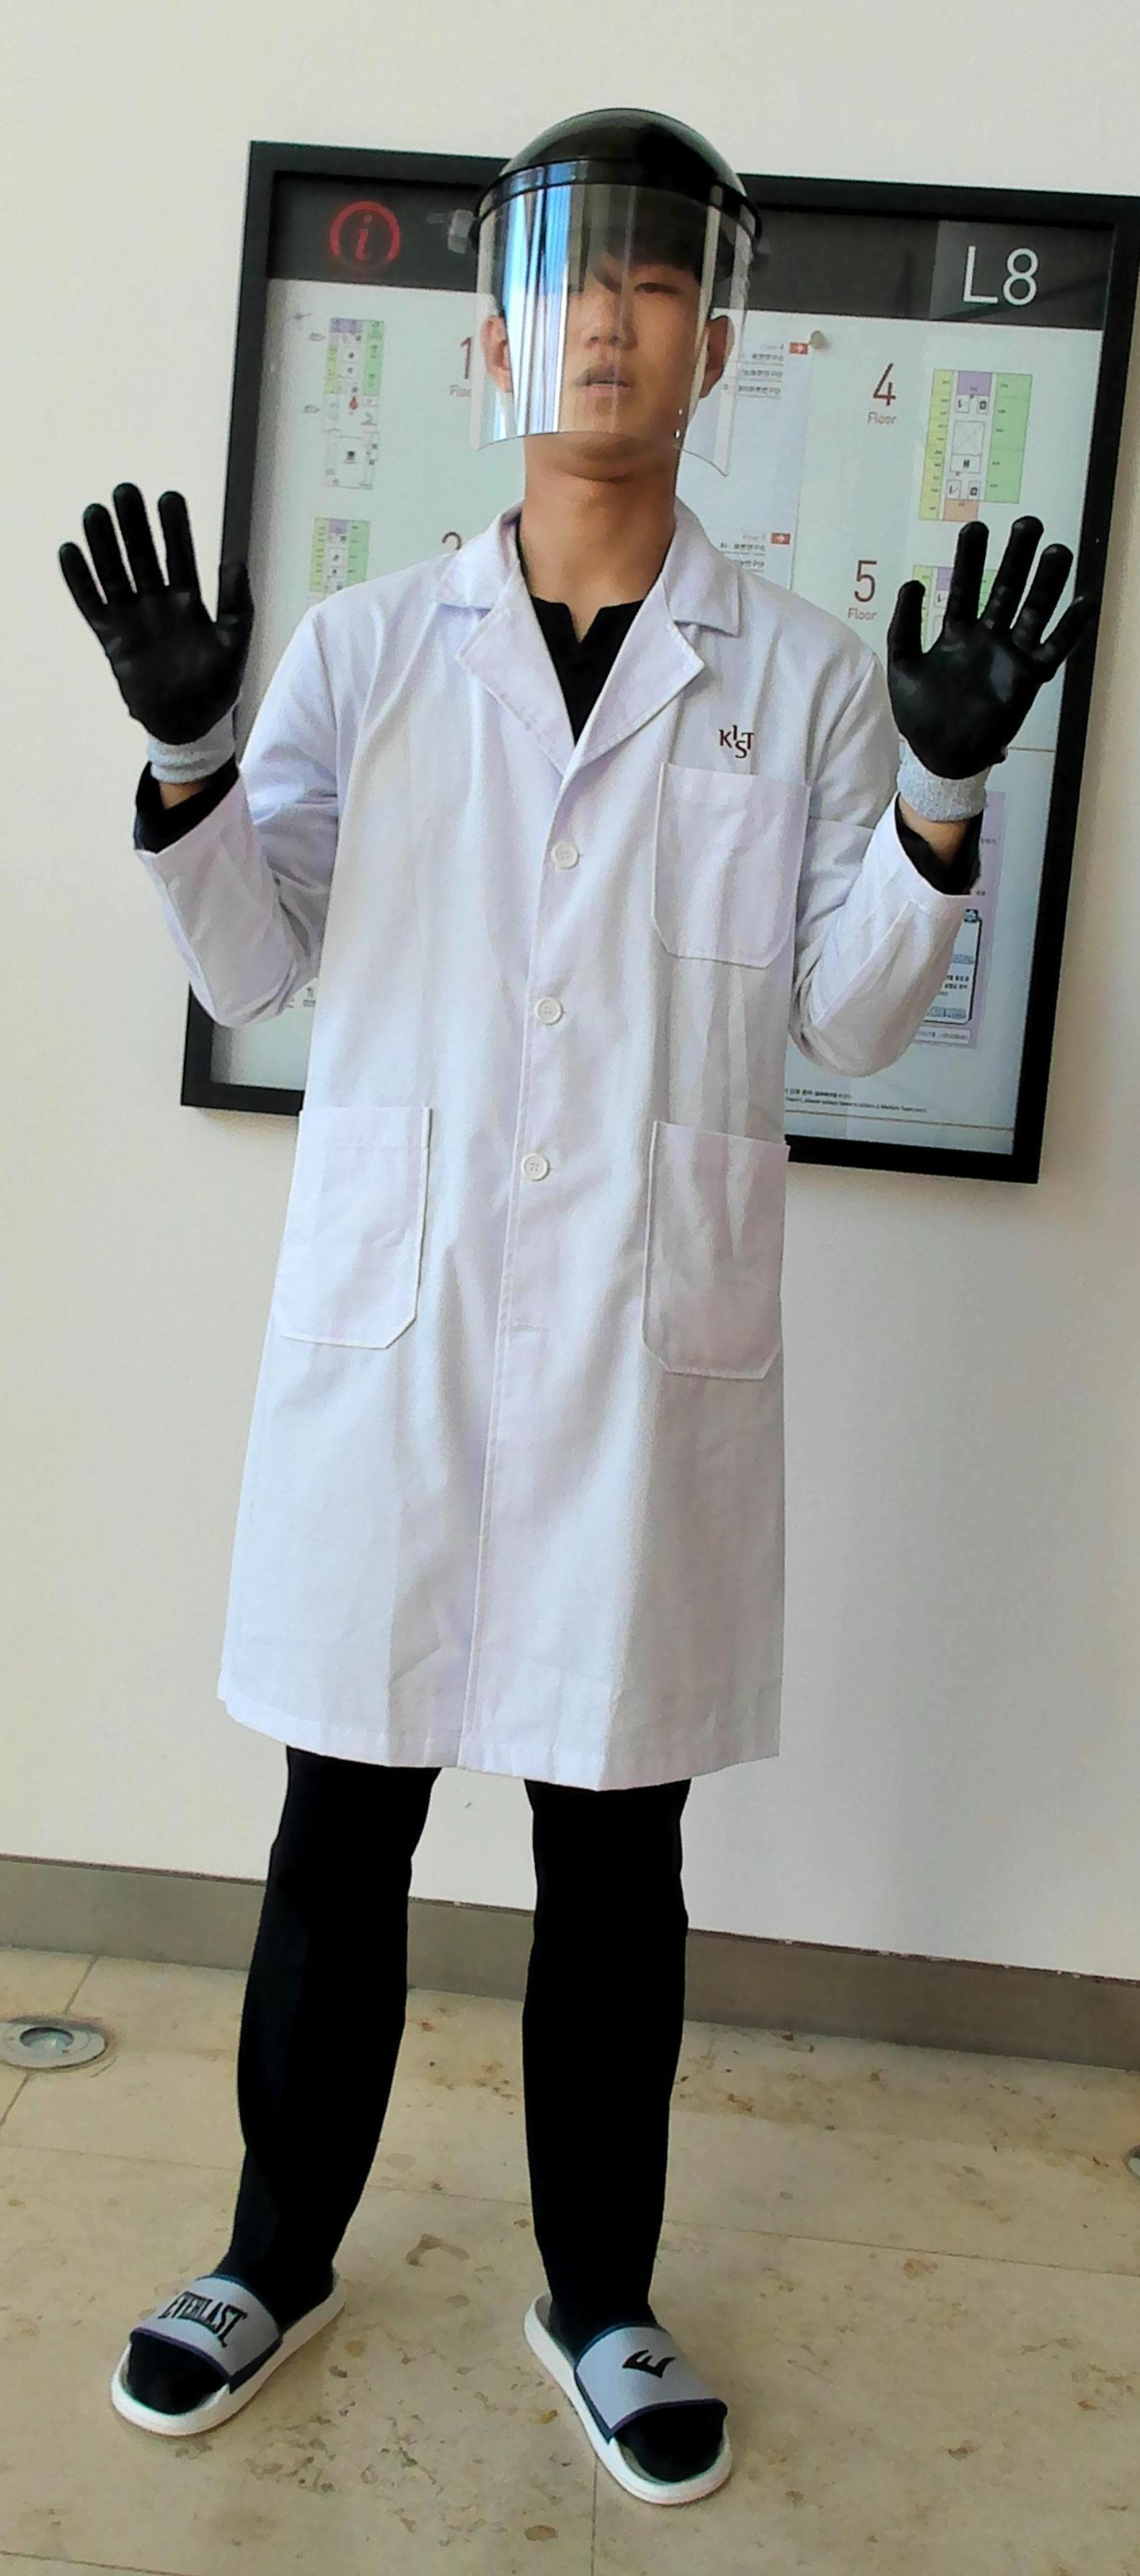lab_coat: (256, 629, 867, 1753)
